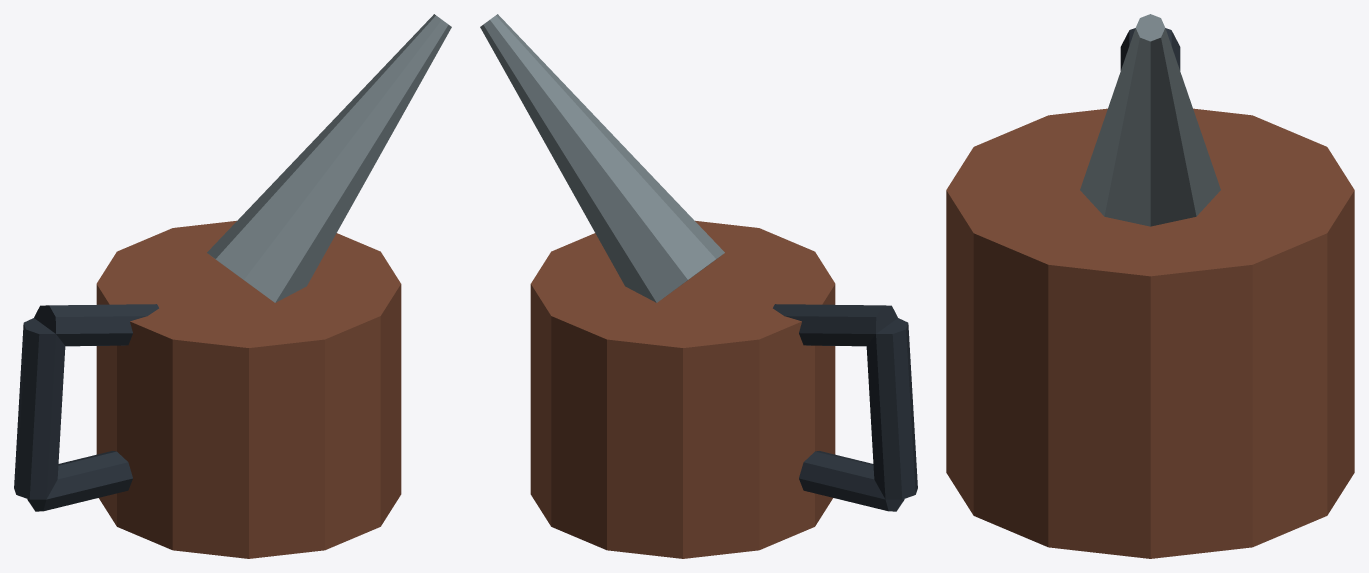
The model's file is L-25_oiler.glb.
The picture shows the model from 3 angles, left to right: view 1: azimuth 30°, elevation 25°; view 2: azimuth 150°, elevation 25°; view 3: azimuth 270°, elevation 25°; orthographic projection. The views are drawn at different scales.
Visible parts, largest first — view 1: L-25_oiler; view 2: L-25_oiler; view 3: L-25_oiler.
Part boxes in pixels (<box>): L-25_oiler: <box>14,14,451,558</box>; L-25_oiler: <box>480,14,917,558</box>; L-25_oiler: <box>946,14,1354,558</box>.
Bounding box in the file's own units: 0.1809 × 0.1727 × 0.11.
